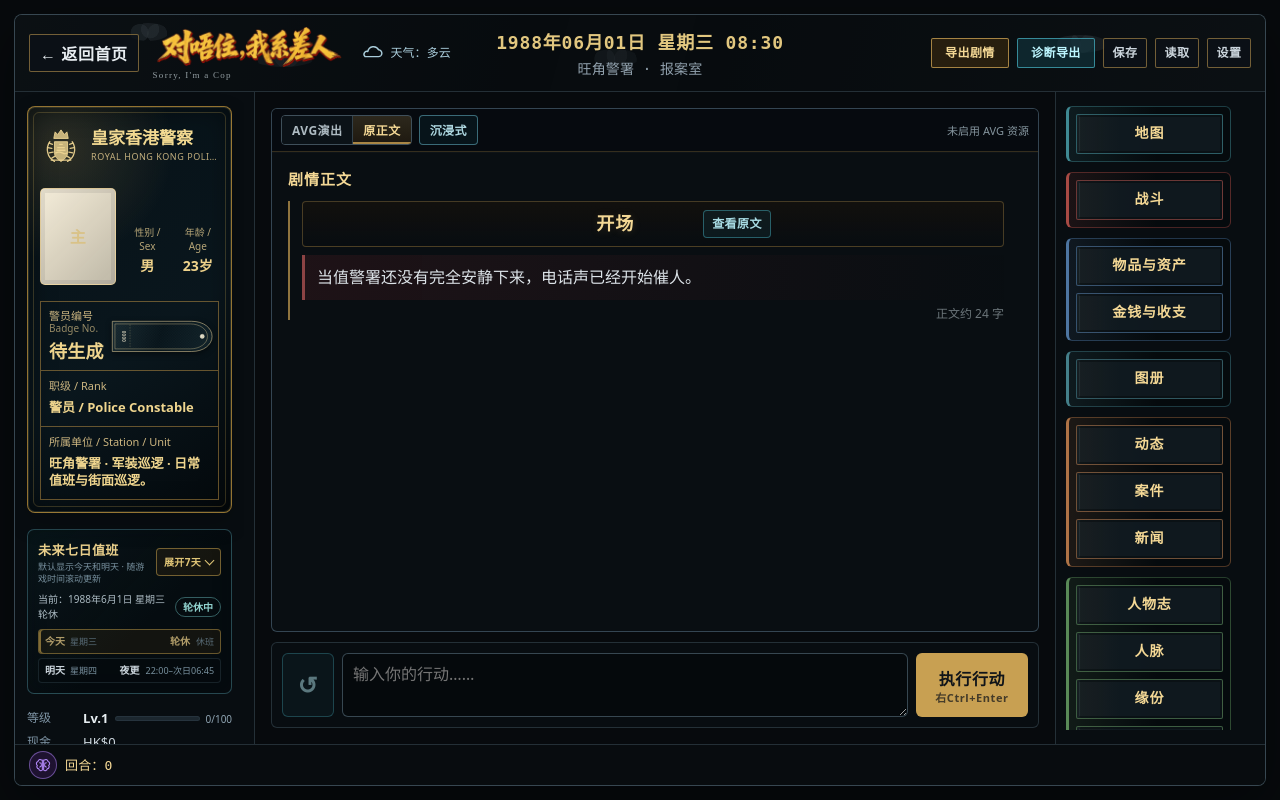
Test: GameScreen right panel › keeps page immersive mode when the browser rejects native fullscreen
What coordinates should you click on to do the following:
click the button "沉浸式"
I would click on:
 (448, 130)
Its box is [419,115,478,145].
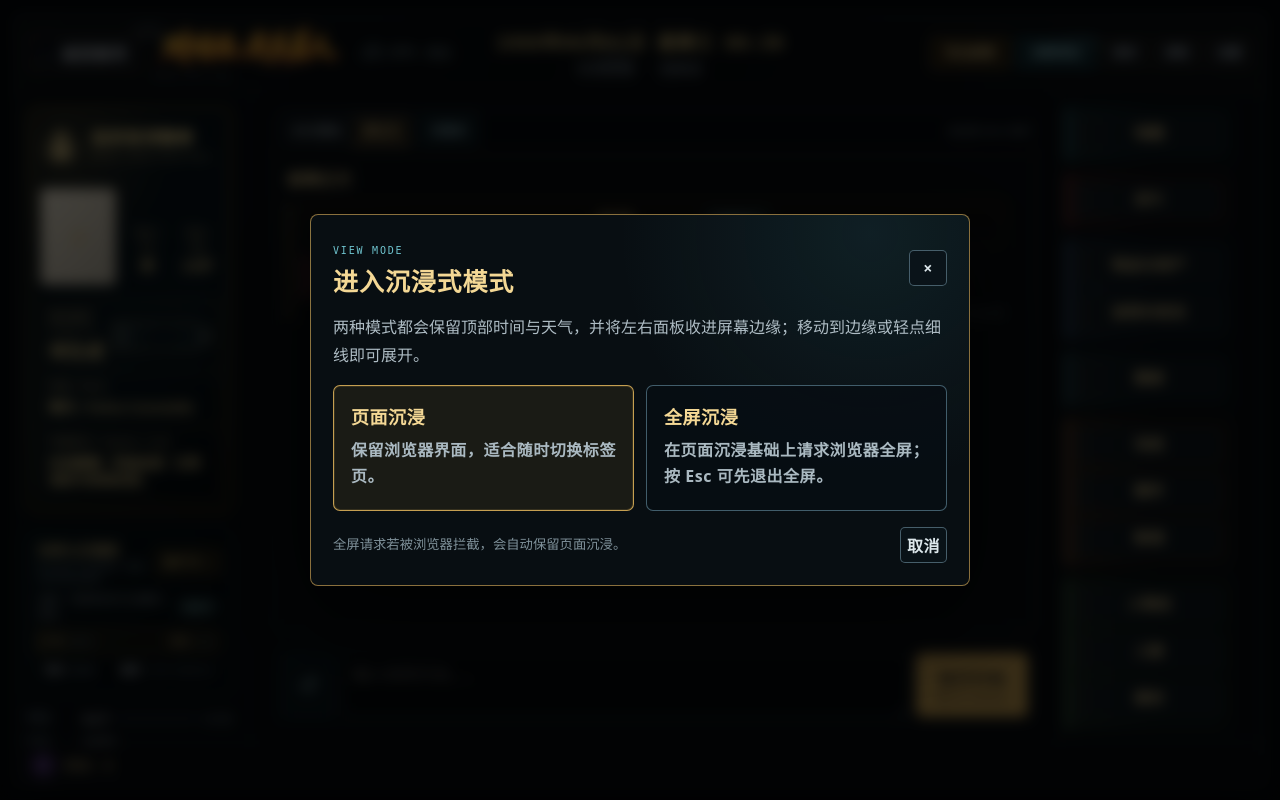
What coordinates should you click on to do the following:
click the button "全屏沉浸 在页面沉浸基础上请求浏览器全屏；按 Esc 可先退出全屏。"
I would click on:
 (796, 448)
Its box is [646,385,947,511].
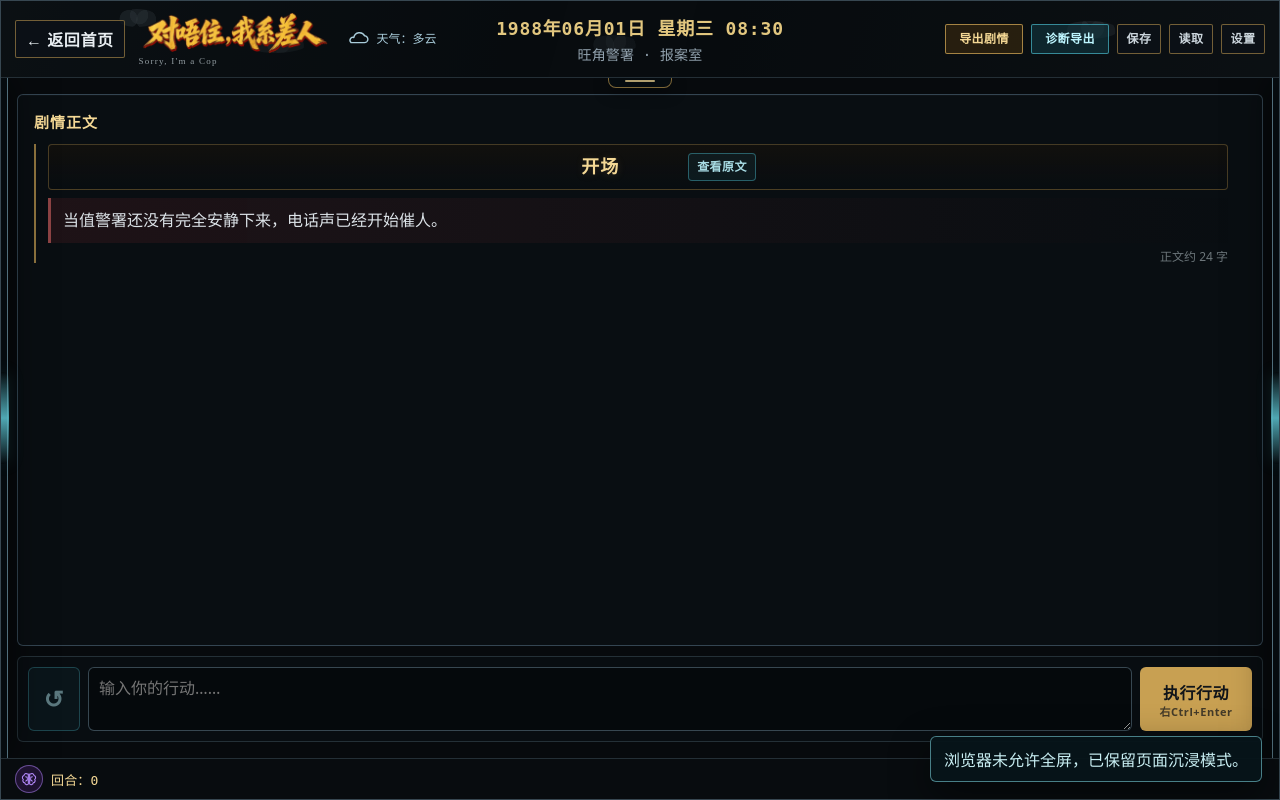
expect the message shows "已保留页面沉浸模式": met, box [944,749,1248,771]
